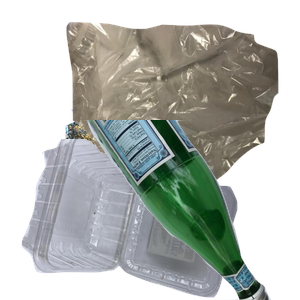glass: (75, 120, 300, 300)
metal: (61, 54, 225, 202)
plastic: (19, 139, 249, 300)
trash: (64, 20, 300, 200)
